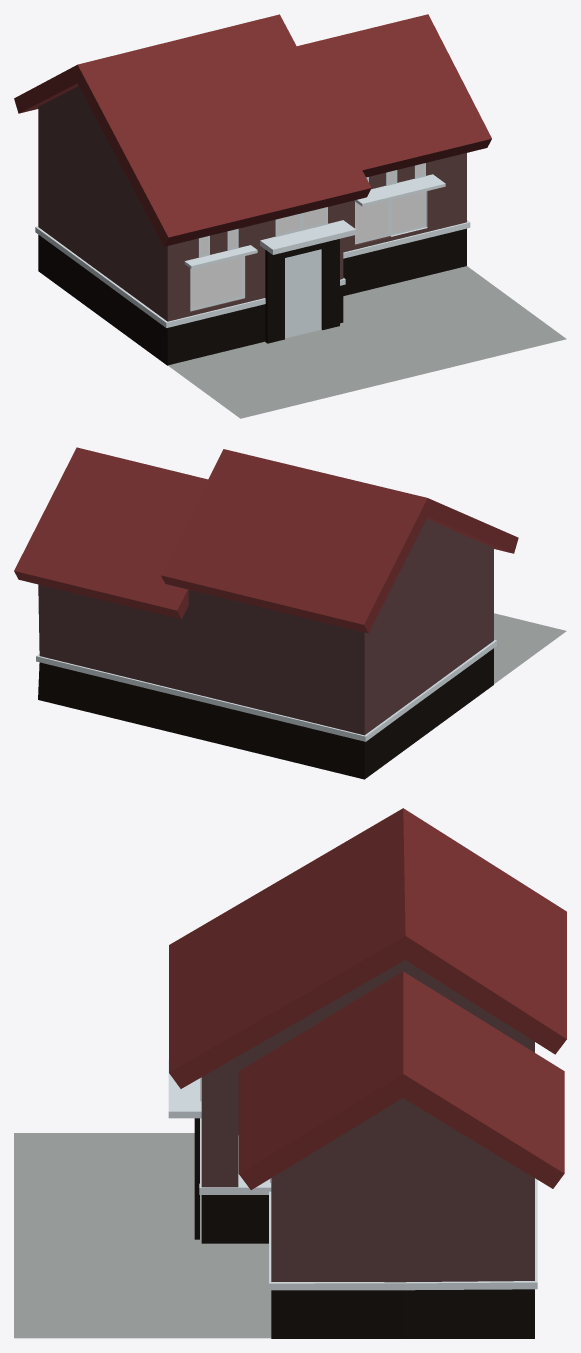
File: rumah  kecil.fbx
3 views of the same model, one above another, from view 1: azimuth 30°, elevation 25°; view 2: azimuth 150°, elevation 25°; view 3: azimuth 270°, elevation 25° (orthographic). The views are drawn at different scales.
Parts seen in each view (by area): view 1: Cube.050; view 2: Cube.050; view 3: Cube.050.
Boxes of the visible parts, x1,y1,x2,y2 form: Cube.050: [14, 14, 566, 418]; Cube.050: [14, 447, 566, 779]; Cube.050: [14, 808, 566, 1338].
Bounding box in the file's own units: 1992 × 1341 × 2112.
